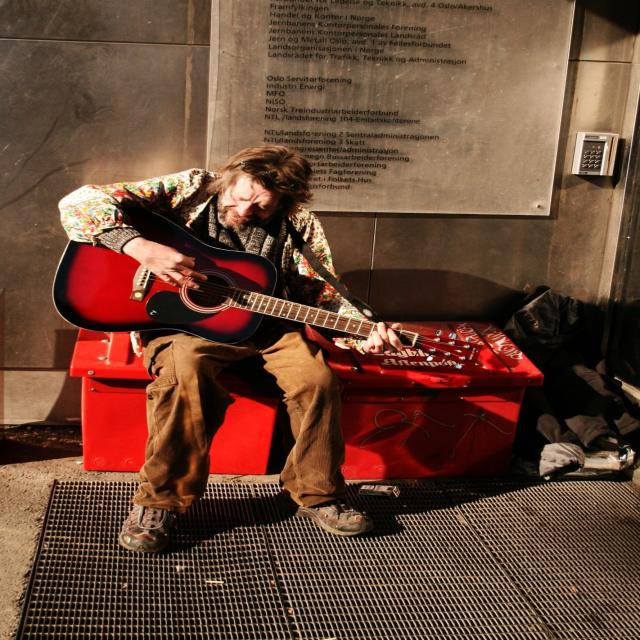guitar: (48, 204, 480, 368)
